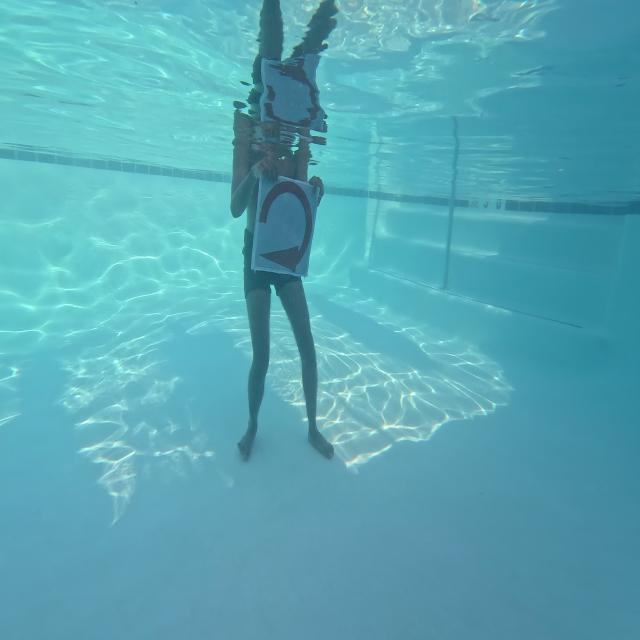red_side: (253, 169, 318, 282)
